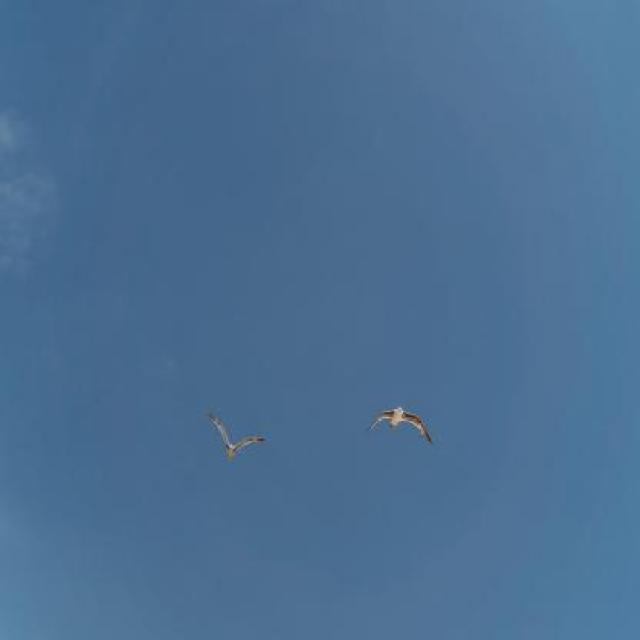bird: (208, 412, 266, 463), (366, 406, 434, 448)
